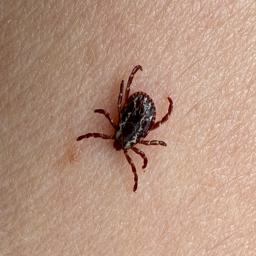Dermacentor variabilis: (76, 64, 174, 192)
